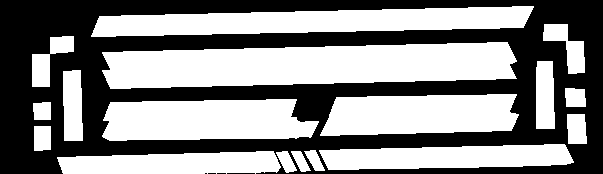parkingspot: (91, 6, 533, 36), (102, 59, 516, 88), (102, 42, 516, 70), (319, 144, 573, 169), (57, 151, 280, 174), (102, 117, 318, 140), (320, 112, 518, 135), (103, 99, 296, 120), (329, 94, 516, 115), (63, 70, 82, 140), (536, 61, 554, 128), (566, 41, 584, 73), (567, 114, 586, 143), (32, 54, 49, 86), (276, 151, 296, 172), (304, 150, 324, 170), (50, 36, 73, 53), (543, 24, 567, 40), (34, 126, 50, 150), (291, 151, 310, 171), (565, 88, 585, 106), (33, 102, 50, 119)
